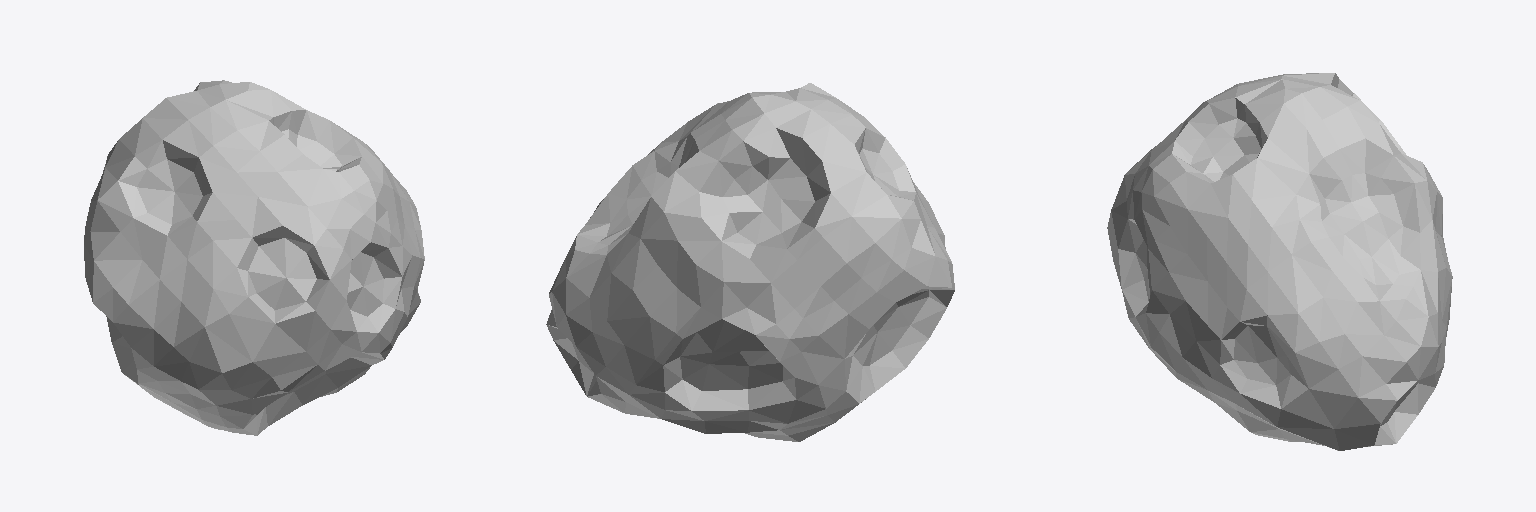
Rendered from asteroid.obj.
3 renders of one model, left to right at view 1: azimuth 30°, elevation 25°; view 2: azimuth 150°, elevation 25°; view 3: azimuth 270°, elevation 25°, orthographic.
Parts seen in each view (by area): view 1: asteroid_Untitled; view 2: asteroid_Untitled; view 3: asteroid_Untitled.
Part boxes in pixels (bbox=[...]): asteroid_Untitled: bbox=[84, 80, 424, 435]; asteroid_Untitled: bbox=[546, 83, 954, 441]; asteroid_Untitled: bbox=[1107, 73, 1452, 450].
Size of the model in its own units: 9.61 by 8.74 by 8.28.